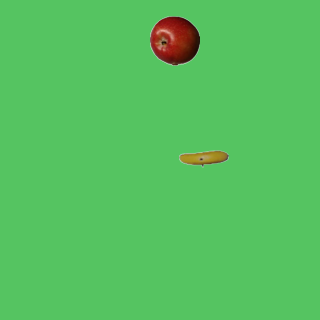Apple Braeburn: (149, 15, 199, 65)
Banana: (178, 133, 228, 183)
